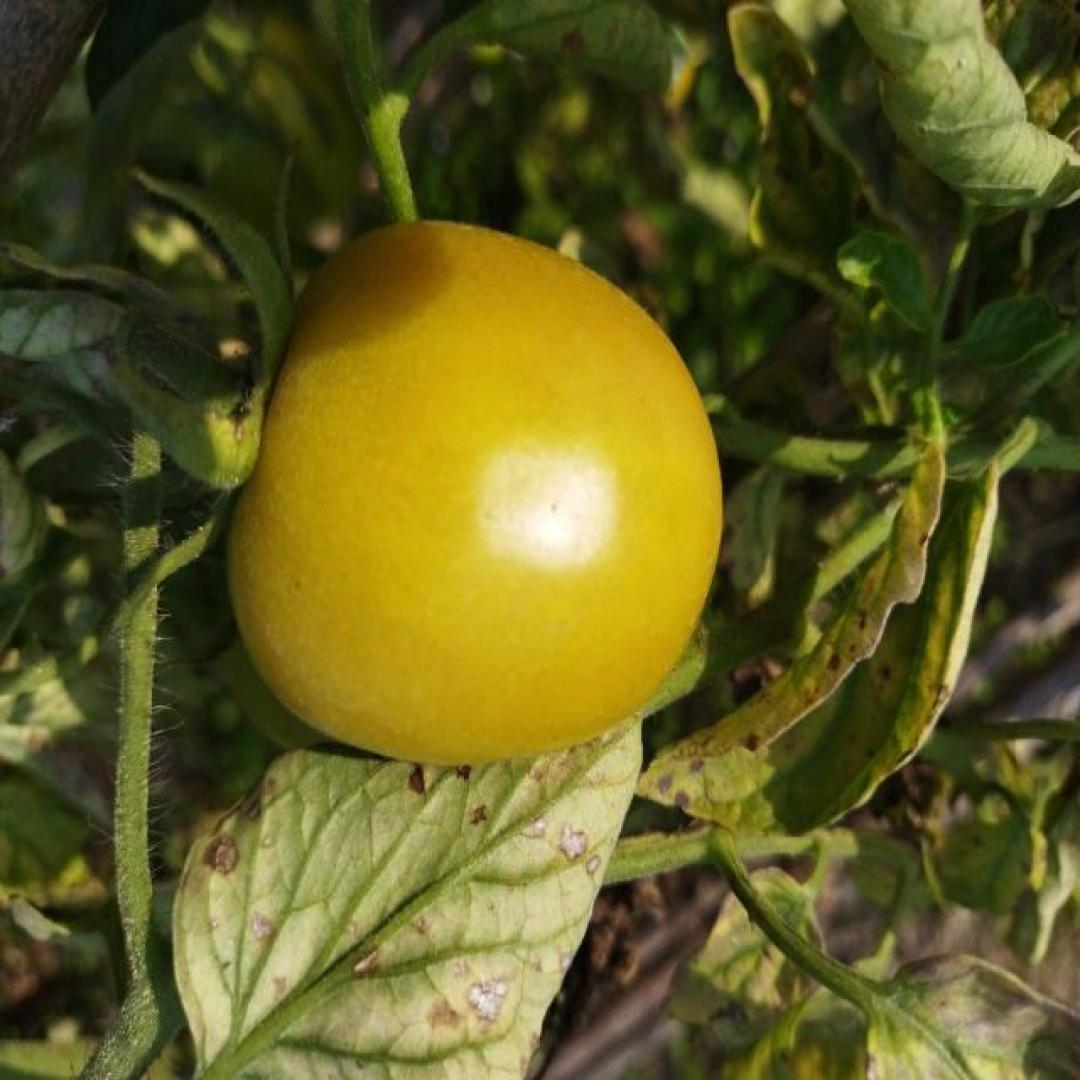setengah_matang: (222, 215, 726, 769)
